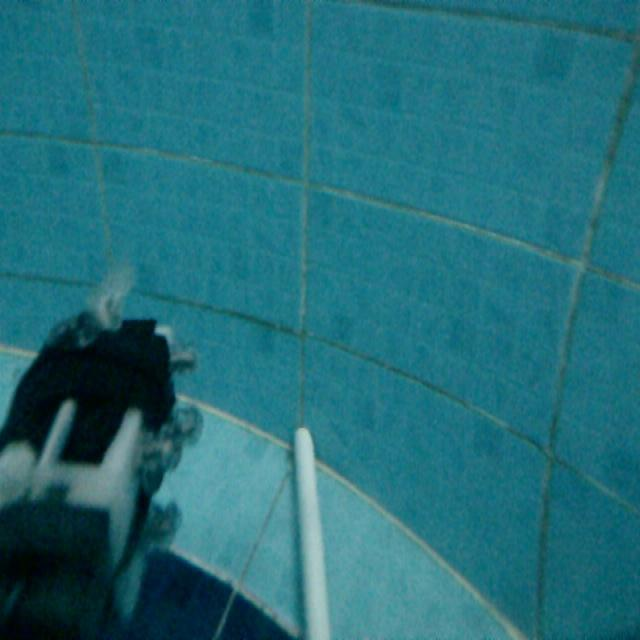Cube: (287, 421, 337, 639)
